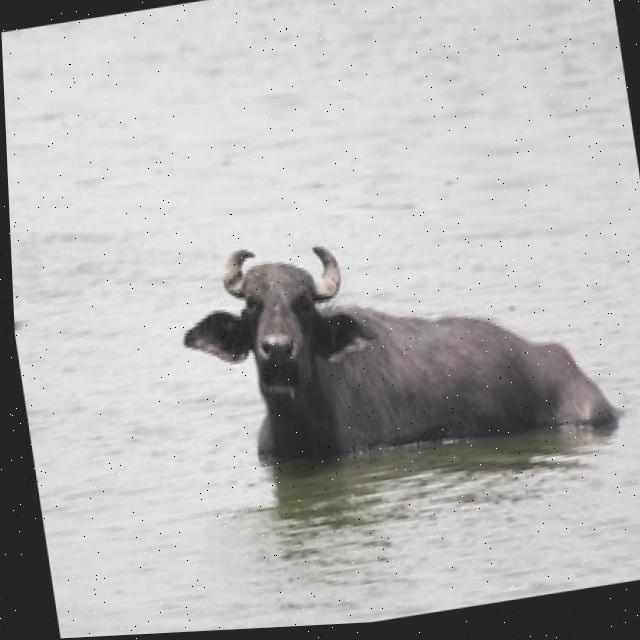Buffalo: (164, 185, 627, 498)
